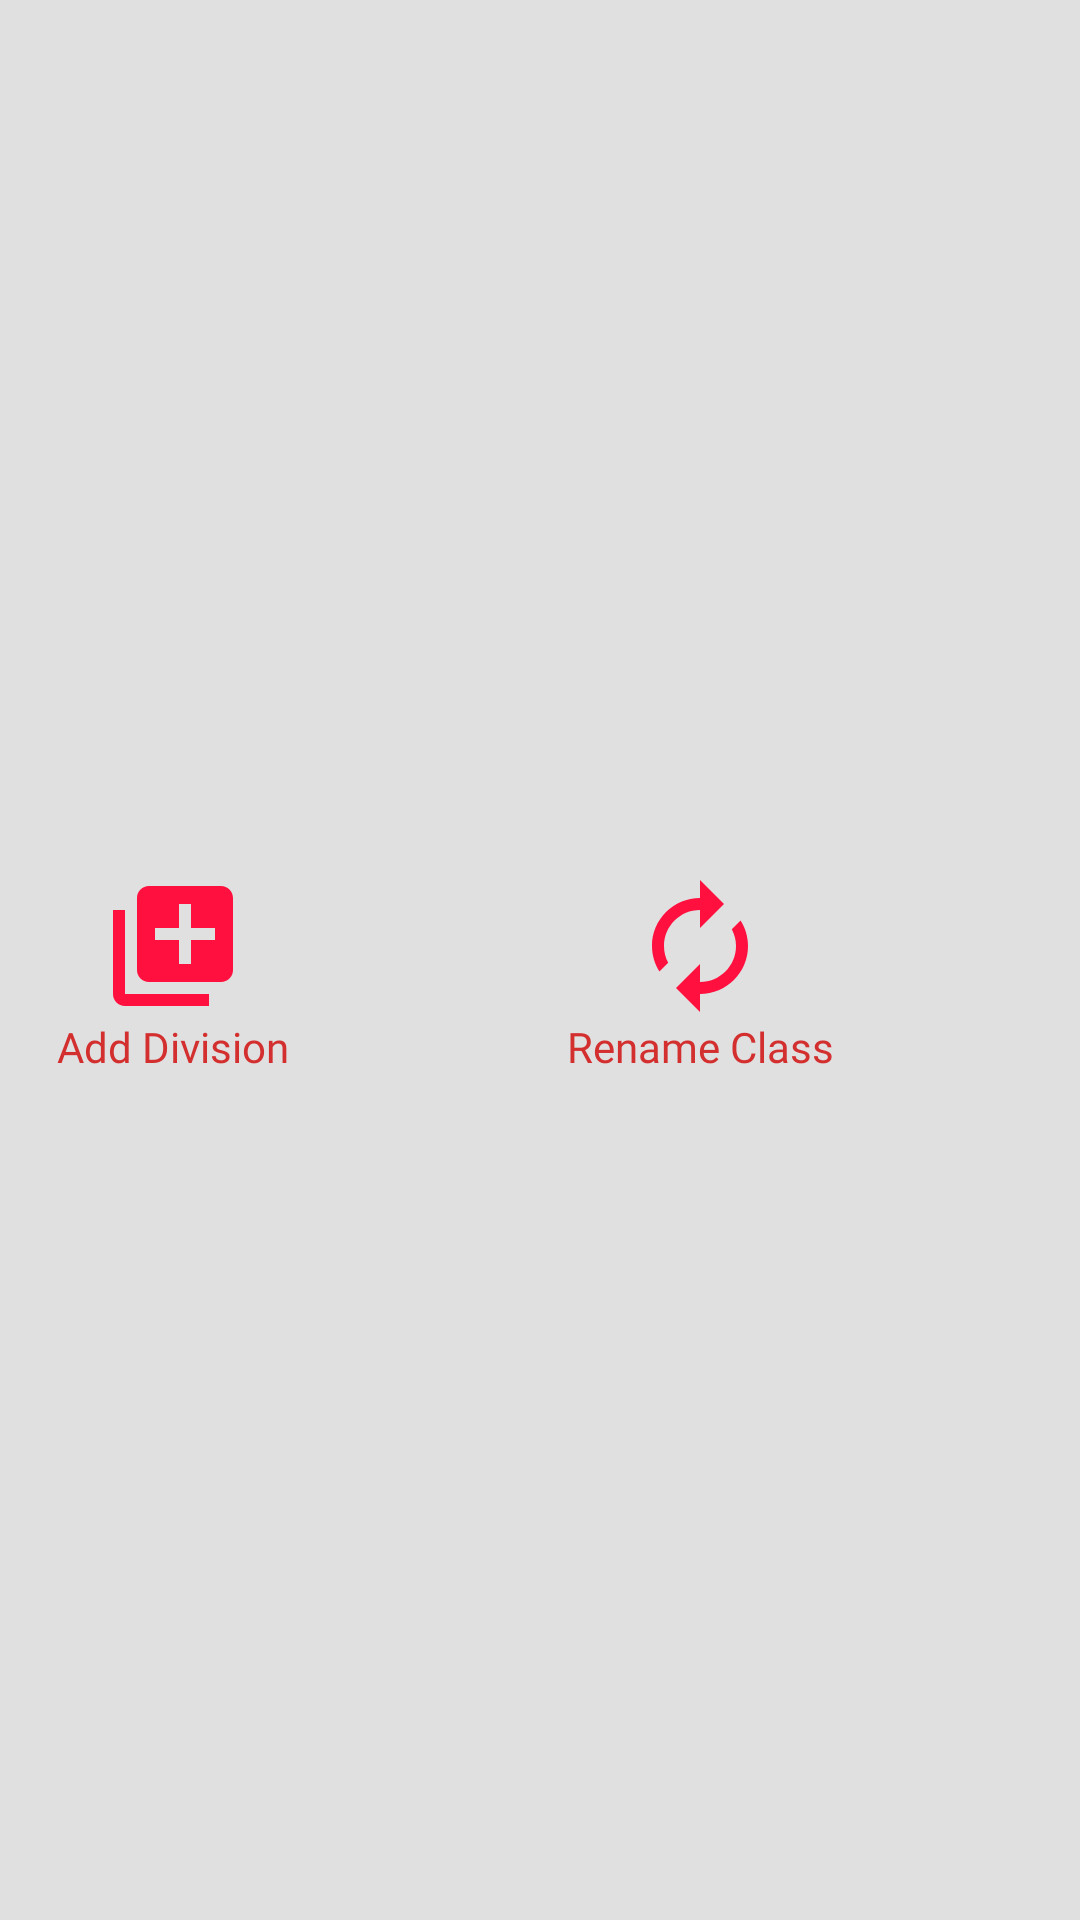

Where icons sit on this 1080 x 1920 app screen, as (x1, y1, x2, y2):
add to photos: (113, 886, 233, 1006)
autorenew: (652, 880, 748, 1012)
